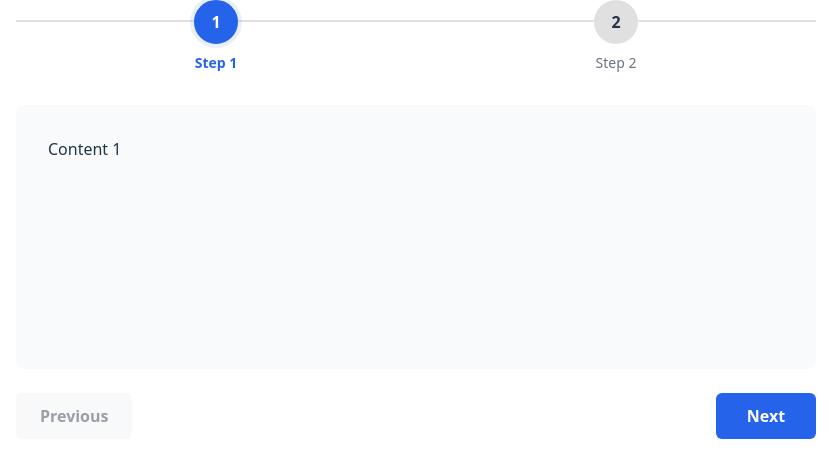
Scenario: Stepper Compound Component › synchronizes state across components without prop drilling
# Click second tab
Click the tab "2 Step 2". click: (616, 36)
box: [594,0,638,72]
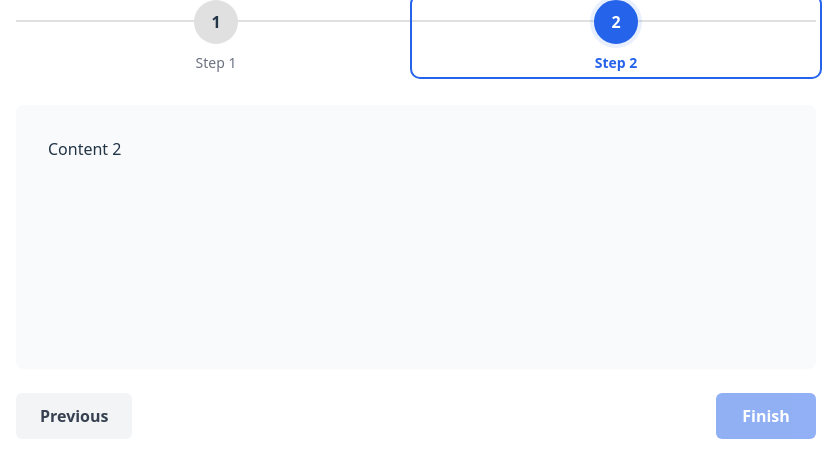
expect the text "Content 2" is shown: met, box [16,105,816,369]
expect the button "Previous" is enabled: met, box [16,393,132,439]
